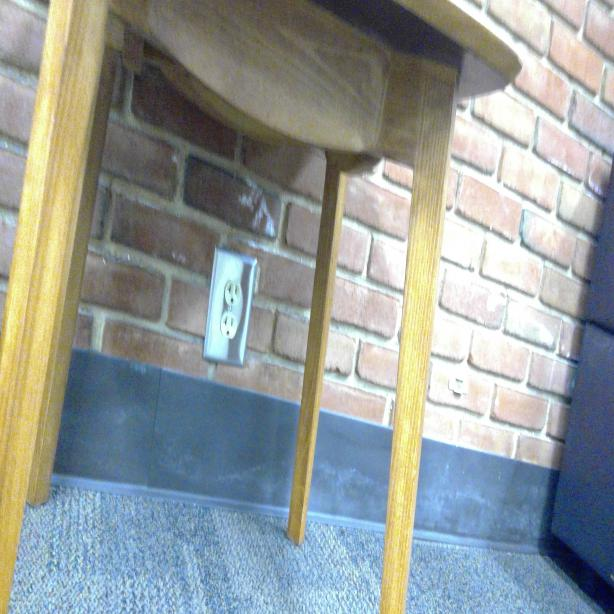typeb: (225, 282, 241, 306), (222, 316, 237, 339)
